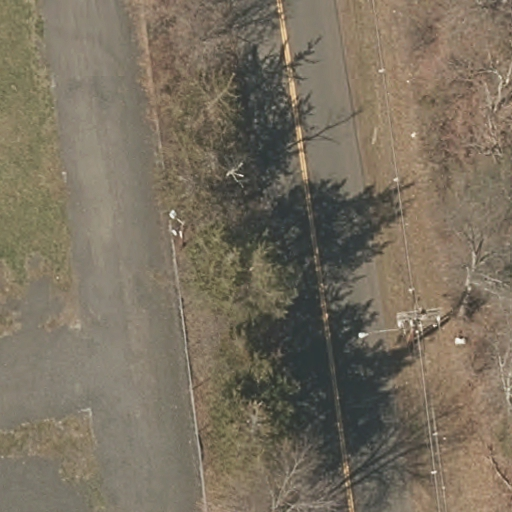DT: (393, 303, 442, 331)
